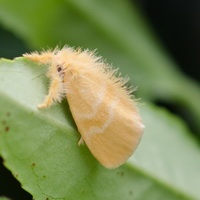insect: (23, 46, 143, 167)
